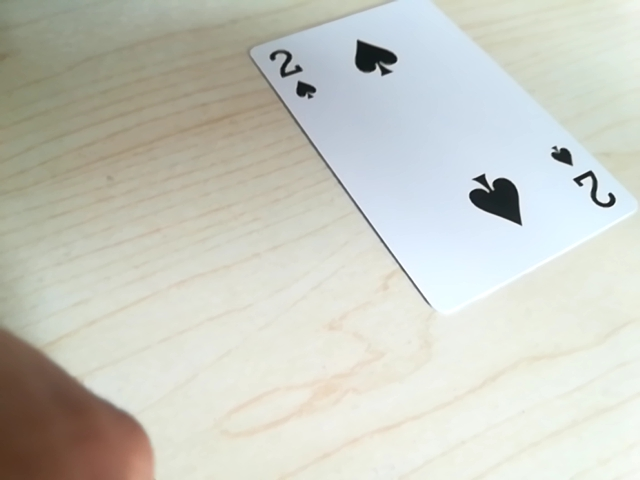ht 2: (547, 141, 620, 215), (262, 42, 321, 105)
